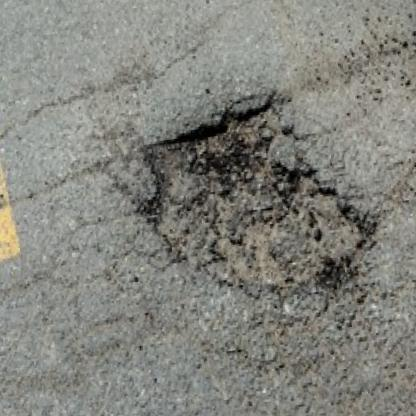pothole: (118, 77, 380, 331)
